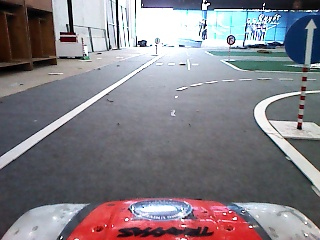straight: (283, 13, 320, 69)
